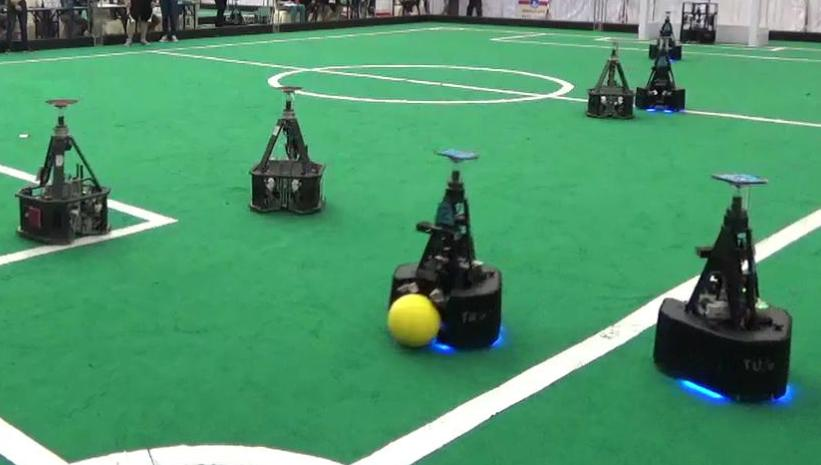robot: (652, 164, 799, 410), (385, 139, 507, 356), (15, 95, 115, 243), (248, 80, 328, 219), (584, 41, 637, 123), (639, 37, 689, 116)
